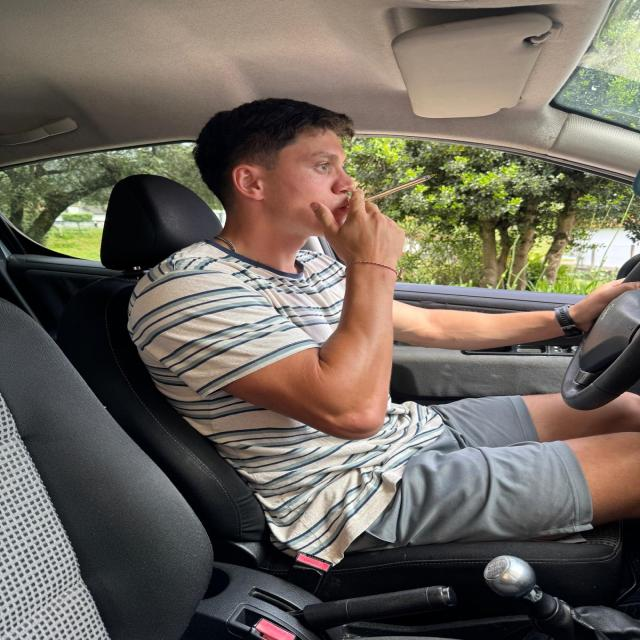Cigarette: (344, 172, 441, 208)
